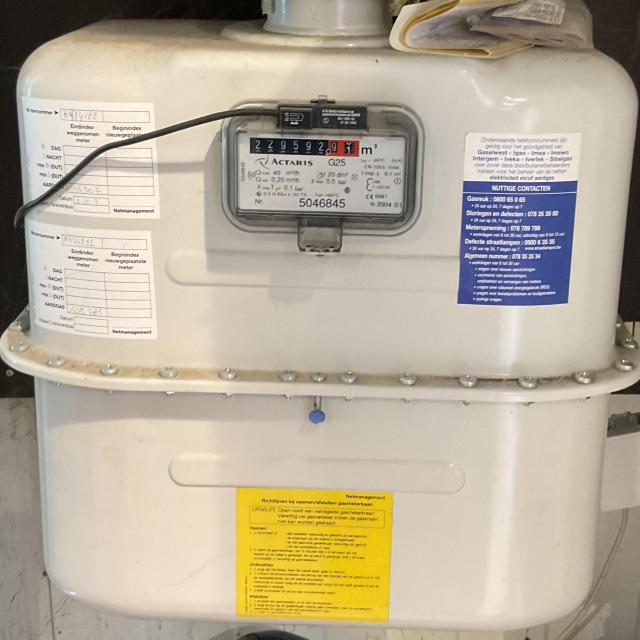gaz_meter: (236, 125, 414, 219)
indication: (249, 136, 360, 158)
